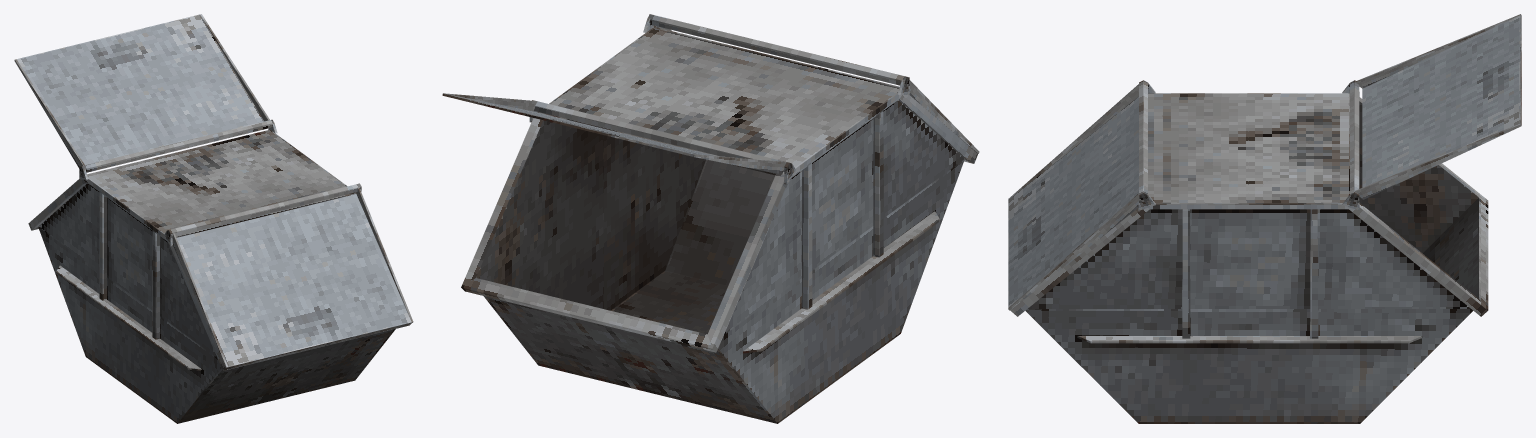
File: chonky pixels.glb
3 renders of one model, left to right at view 1: azimuth 30°, elevation 25°; view 2: azimuth 150°, elevation 25°; view 3: azimuth 270°, elevation 25°, orthographic. The views are drawn at different scales.
Visible parts, largest first — view 1: container, Door1, Door2; view 2: container, Door2, Door1; view 3: container, Door2, Door1.
Part boxes in pixels (box(x1,y1,x2,y2)): container: box(28, 119, 411, 423); Door1: box(172, 187, 413, 368); Door2: box(14, 14, 269, 168); container: box(461, 14, 977, 423); Door2: box(442, 93, 786, 174); Door1: box(653, 25, 979, 153); container: box(1010, 80, 1488, 423); Door2: box(1355, 14, 1521, 199); Door1: box(1008, 84, 1138, 310).
Bounding box in the file's own units: 1.04 × 1.26 × 1.94.
Materials: 1 (1 with a texture image).
